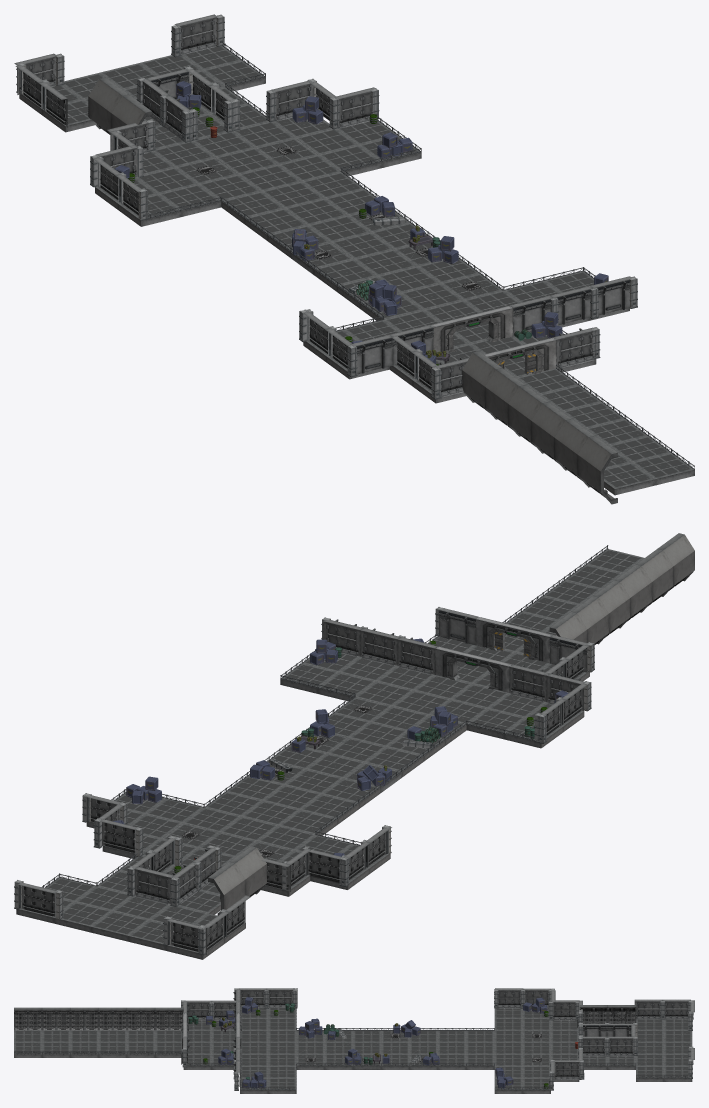
File: lvl2_zone3.fbx
The picture shows the model from 3 angles, top to bottom: view 1: azimuth 30°, elevation 25°; view 2: azimuth 150°, elevation 25°; view 3: azimuth 270°, elevation 25°; orthographic projection. The views are drawn at different scales.
Visible parts, largest first — view 1: Lvl2Z1_PortonMarco_low.009, Tunel_low.005, Tunel_low.001, Tunel_low.004, Tunel_low.002, Pared_low.081, Tunel_low.003, Tunel_low.035, Lvl2Z1_Tunel_low.019, Lvl2Z1_PortonMarco_low.002, Pared_low.102, Suelo_low.057 (+49 smaller); view 2: Lvl2Z1_PortonMarco_low.009, Lvl2Z1_PortonMarco_low.002, Pared_low.082, Pared_low.084, Pared_low.080, Tunel_low.003, Tunel_low.004, Pared_low.099, Tunel_low.002, Tunel_low.005, Lvl2Z1_Tunel_low.019, Lvl2Z1_Tunel_low.020 (+53 smaller); view 3: Tunel_low.004, Tunel_low.001, Tunel_low.002, Tunel_low.003, Tunel_low.005, Tunel_low.035, Lvl2Z1_Tunel_low.019, Pared_low.104, Pared_low.096, Pared_low.100, Pared_low.103, Lvl2Z1_Tunel_low.020 (+92 smaller).
Boxes of the visible parts, left/top/right/bottom form: Lvl2Z1_PortonMarco_low.009: left=430, top=305, right=512, bottom=352; Tunel_low.005: left=577, top=436, right=617, bottom=504; Tunel_low.001: left=485, top=368, right=524, bottom=436; Tunel_low.004: left=554, top=419, right=594, bottom=487; Tunel_low.002: left=508, top=385, right=548, bottom=453; Pared_low.081: left=553, top=327, right=596, bottom=368; Tunel_low.003: left=531, top=402, right=571, bottom=467; Tunel_low.035: left=462, top=351, right=501, bottom=419; Lvl2Z1_Tunel_low.019: left=88, top=77, right=128, bottom=134; Lvl2Z1_PortonMarco_low.002: left=484, top=337, right=556, bottom=374; Pared_low.102: left=174, top=14, right=216, bottom=54; Suelo_low.057: left=158, top=184, right=221, bottom=216; Lvl2Z1_PortonMarco_low.009: left=435, top=646, right=512, bottom=692; Lvl2Z1_PortonMarco_low.002: left=476, top=617, right=552, bottom=663; Pared_low.082: left=397, top=637, right=437, bottom=674; Pared_low.084: left=360, top=628, right=400, bottom=665; Pared_low.080: left=509, top=664, right=549, bottom=702; Tunel_low.003: left=615, top=564, right=651, bottom=628; Tunel_low.004: left=636, top=549, right=673, bottom=612; Pared_low.099: left=134, top=867, right=173, bottom=904; Tunel_low.002: left=593, top=580, right=630, bottom=639; Tunel_low.005: left=657, top=533, right=694, bottom=590; Lvl2Z1_Tunel_low.019: left=208, top=862, right=245, bottom=915; Lvl2Z1_Tunel_low.020: left=230, top=846, right=266, bottom=896; Tunel_low.004: left=42, top=1007, right=70, bottom=1030; Tunel_low.001: left=127, top=1007, right=155, bottom=1030; Tunel_low.002: left=98, top=1007, right=126, bottom=1030; Tunel_low.003: left=70, top=1007, right=98, bottom=1030; Tunel_low.005: left=14, top=1007, right=42, bottom=1030; Tunel_low.035: left=155, top=1007, right=183, bottom=1030; Lvl2Z1_Tunel_low.019: left=608, top=1005, right=636, bottom=1023; Pared_low.104: left=634, top=999, right=662, bottom=1019; Pared_low.096: left=607, top=1036, right=633, bottom=1056; Pared_low.100: left=553, top=1060, right=581, bottom=1079; Pared_low.103: left=662, top=999, right=690, bottom=1019; Lvl2Z1_Tunel_low.020: left=579, top=1005, right=607, bottom=1023.
Size of the model in its own units: 2866 by 508 by 9637.
